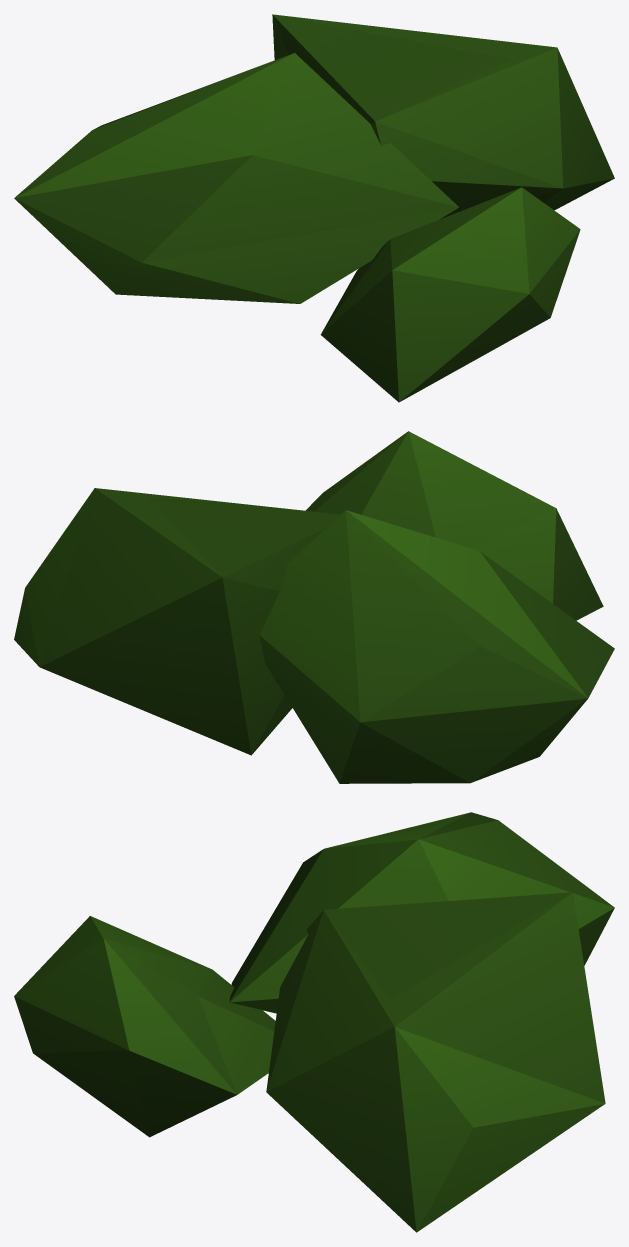
Rendered from uranium-ore.glb.
3 renders of one model, top to bottom at view 1: azimuth 30°, elevation 25°; view 2: azimuth 150°, elevation 25°; view 3: azimuth 270°, elevation 25°, orthographic. The views are drawn at different scales.
Parts seen in each view (by area): view 1: uranium-ore; view 2: uranium-ore; view 3: uranium-ore.
Boxes of the visible parts, box(x1,y1,x2,y2) form: uranium-ore: box(14, 14, 614, 402); uranium-ore: box(14, 431, 614, 783); uranium-ore: box(14, 812, 614, 1232).
Bounding box in the file's own units: 0.2648 × 0.091 × 0.2182.
